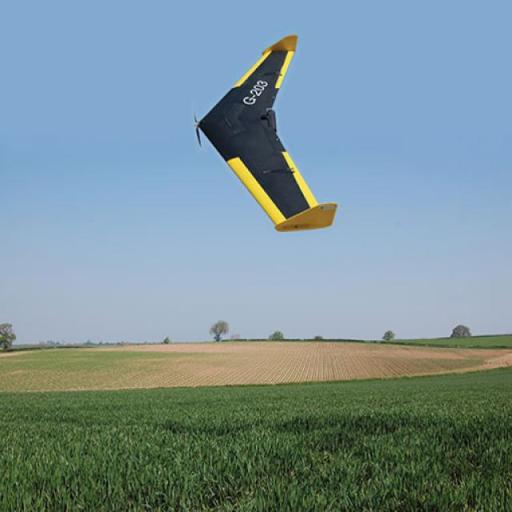uav: (196, 33, 342, 236)
